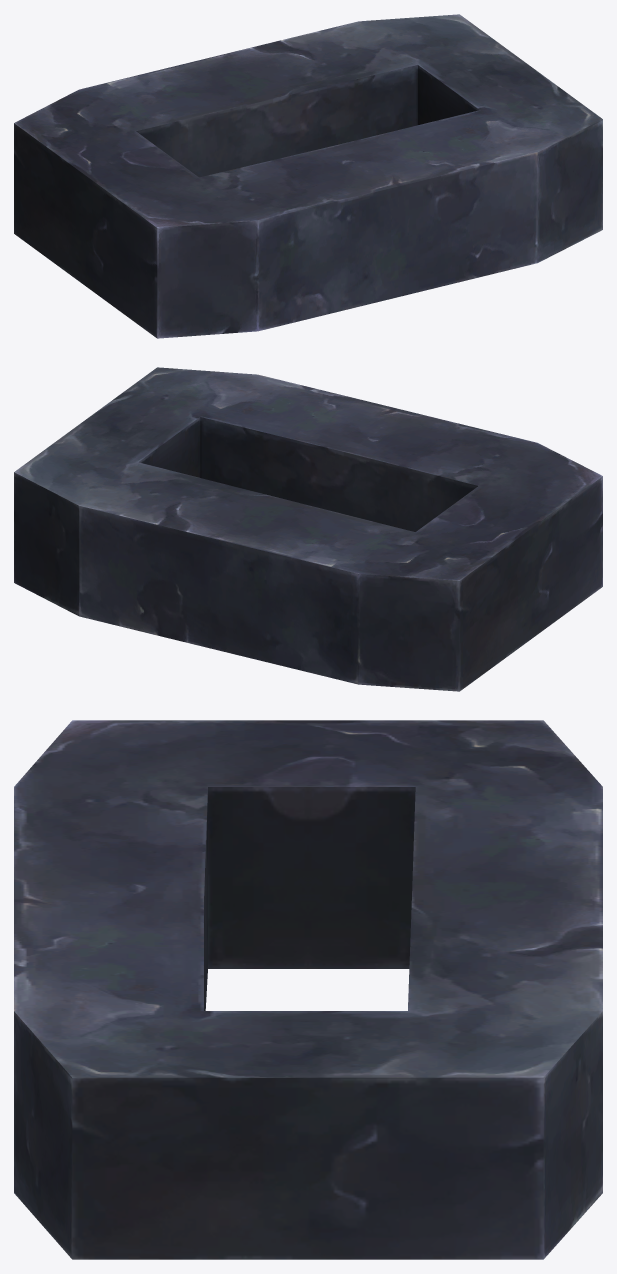
File: huodong_fuben_400_tielian02.obj
3 views of the same model, one above another, from view 1: azimuth 30°, elevation 25°; view 2: azimuth 150°, elevation 25°; view 3: azimuth 270°, elevation 25° (orthographic). The views are drawn at different scales.
Visible parts, largest first — view 1: huodong_fuben_400_tielian02; view 2: huodong_fuben_400_tielian02; view 3: huodong_fuben_400_tielian02.
Boxes of the visible parts, x1,y1,x2,y2 form: huodong_fuben_400_tielian02: (14, 14, 602, 338); huodong_fuben_400_tielian02: (14, 367, 602, 691); huodong_fuben_400_tielian02: (14, 720, 602, 1259).
Size of the model in its own units: 326 by 77.4 by 227.
Materials: 1 (1 with a texture image).
